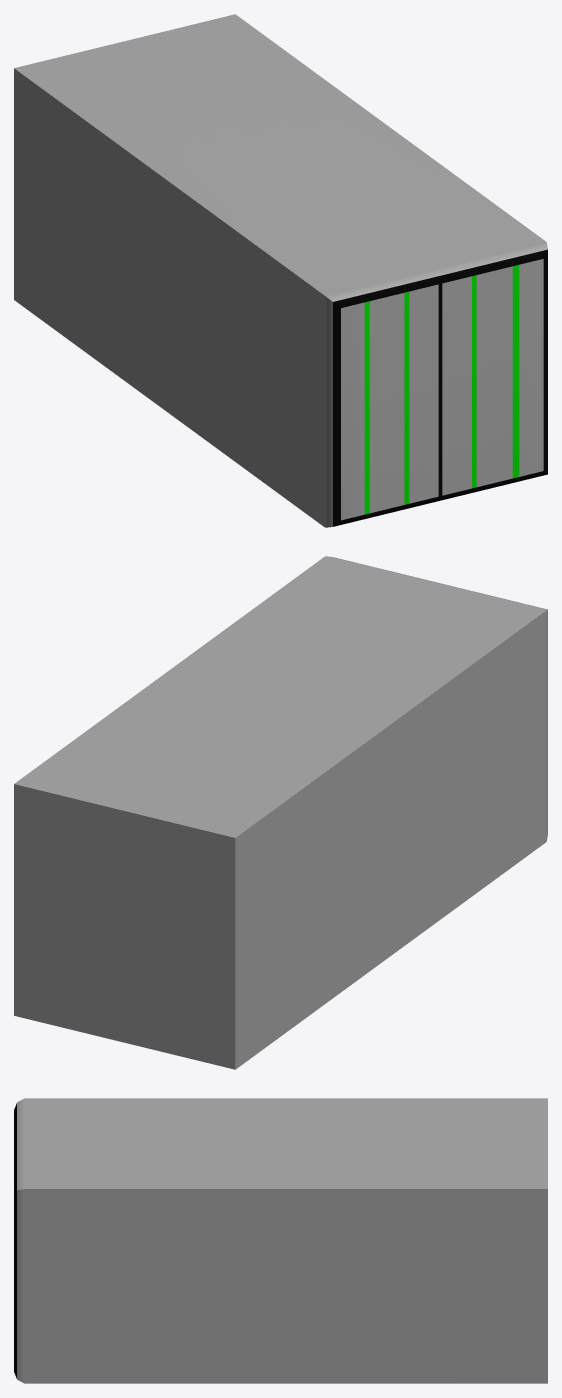
File: cabinn 1.fbx
3 views of the same model, one above another, from view 1: azimuth 30°, elevation 25°; view 2: azimuth 150°, elevation 25°; view 3: azimuth 270°, elevation 25° (orthographic). The views are drawn at different scales.
Visible parts, largest first — view 1: pCube1; view 2: pCube1; view 3: pCube1.
Part boxes in pixels (x1,y1,x2,y2): pCube1: (14,14,547,527); pCube1: (14,556,547,1069); pCube1: (14,1098,547,1383).
Size of the model in its own units: 42.99 by 42.99 by 107.
